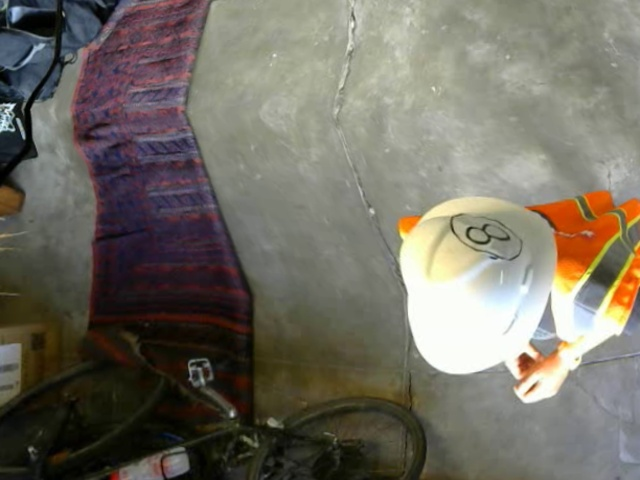eight: (443, 210, 523, 262)
